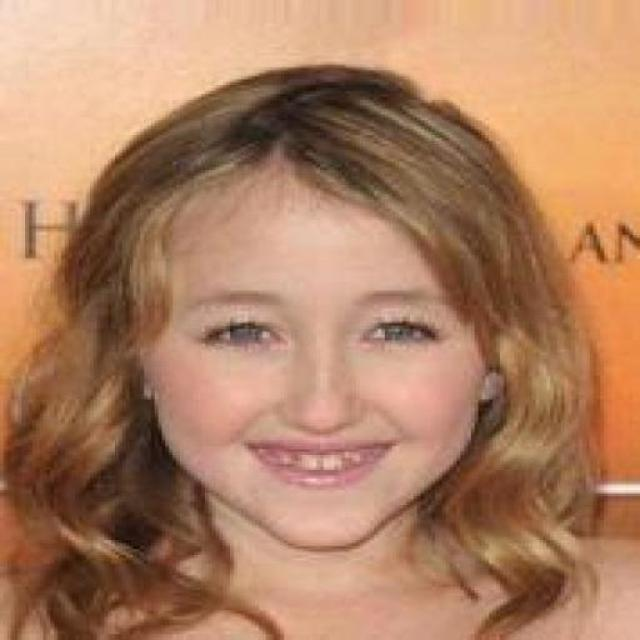bareface: (158, 88, 506, 551)
